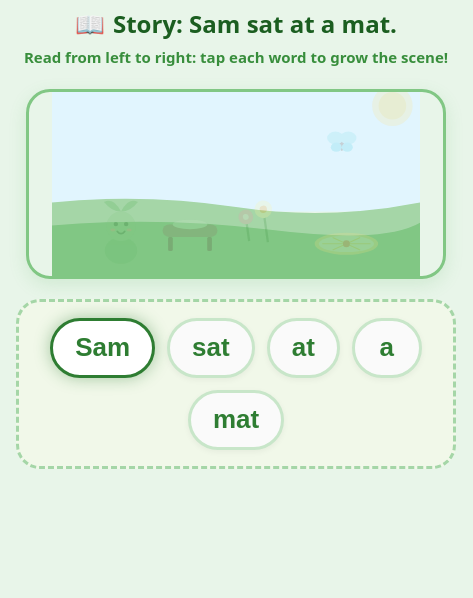
Test: Seam 2 — UI Component & Gesture Integration Seam › DecodableStoryCard: Progressive Scene Reveal & Left-to-Right Directionality › enforces left-to-right reading: sequential taps voice words and progressively reveal scene elements
Tap word 0 ("Sam")
What coordinates should you click on to do the following:
click the button with test id "story-word-0"
I would click on:
 (103, 348)
Its box is [50,318,155,378].
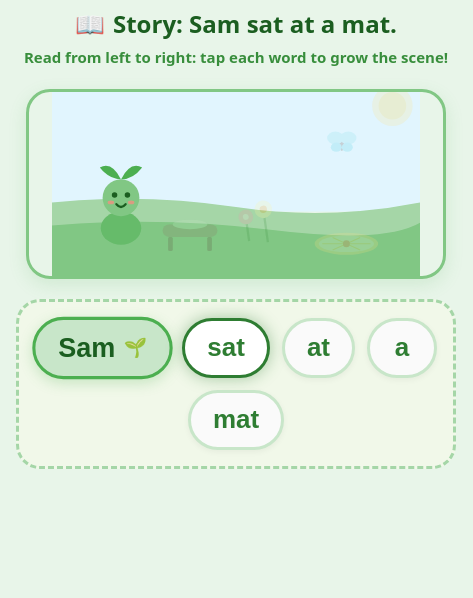
Now the button with test id "story-word-0" has attribute data-read="true", box [32,316,173,379]
Now the button with test id "story-word-1" has attribute data-pulsing="true"
Tap word 1 ("sat")
What coordinates should you click on to do the following:
click the button with test id "story-word-1"
I would click on:
 (226, 348)
Its box is [182,318,270,378].
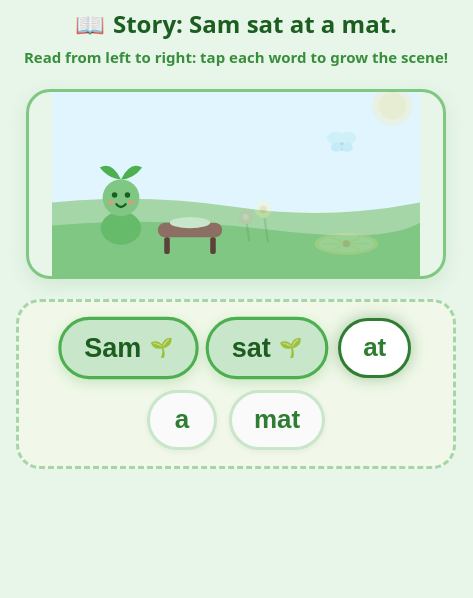
Now the button with test id "story-word-1" has attribute data-read="true", box [206,316,328,379]
Now the button with test id "story-word-2" has attribute data-pulsing="true"
Tap word 2 ("at")
What coordinates should you click on to do the following:
click the button with test id "story-word-2"
I would click on:
 (375, 348)
Its box is [338,318,411,378].
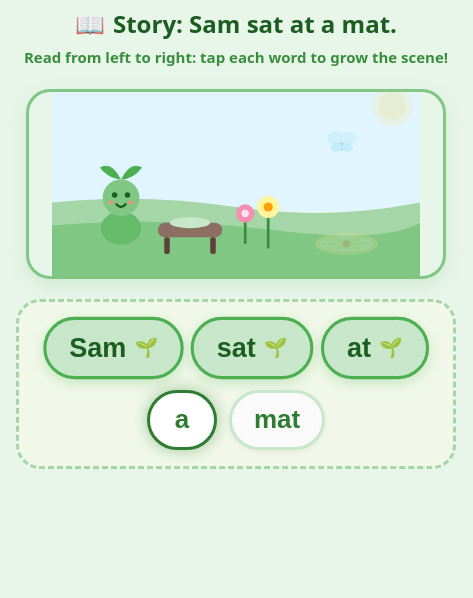
Now the button with test id "story-word-2" has attribute data-read="true", box [321,316,428,379]
Now the button with test id "story-word-3" has attribute data-pulsing="true"
Tap word 3 ("a")
What coordinates should you click on to do the following:
click the button with test id "story-word-3"
I would click on:
 (182, 420)
Its box is [147,390,217,450].
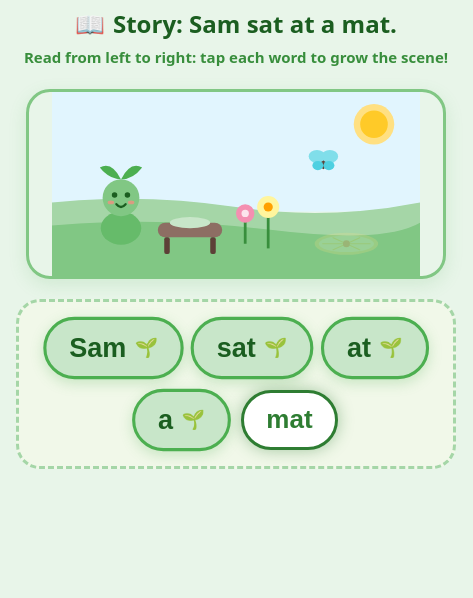
Now the button with test id "story-word-3" has attribute data-read="true", box [132,388,231,451]
Now the button with test id "story-word-4" has attribute data-pulsing="true"
Tap final word 4 ("mat")
What coordinates should you click on to do the following:
click the button with test id "story-word-4"
I would click on:
 (289, 420)
Its box is [241,390,338,450].
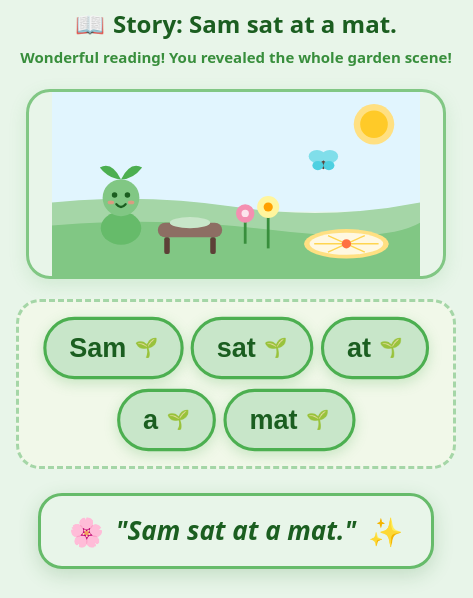
Now the element with test id "completed-story-sentence" is shown, box [38,492,434,568]
